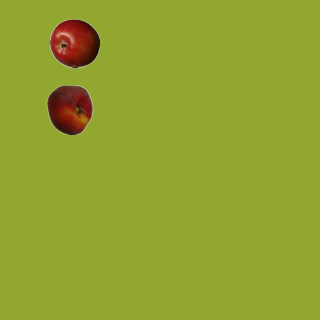Apple Braeburn: (49, 18, 99, 68)
Nectarine Flat: (44, 84, 94, 134)
